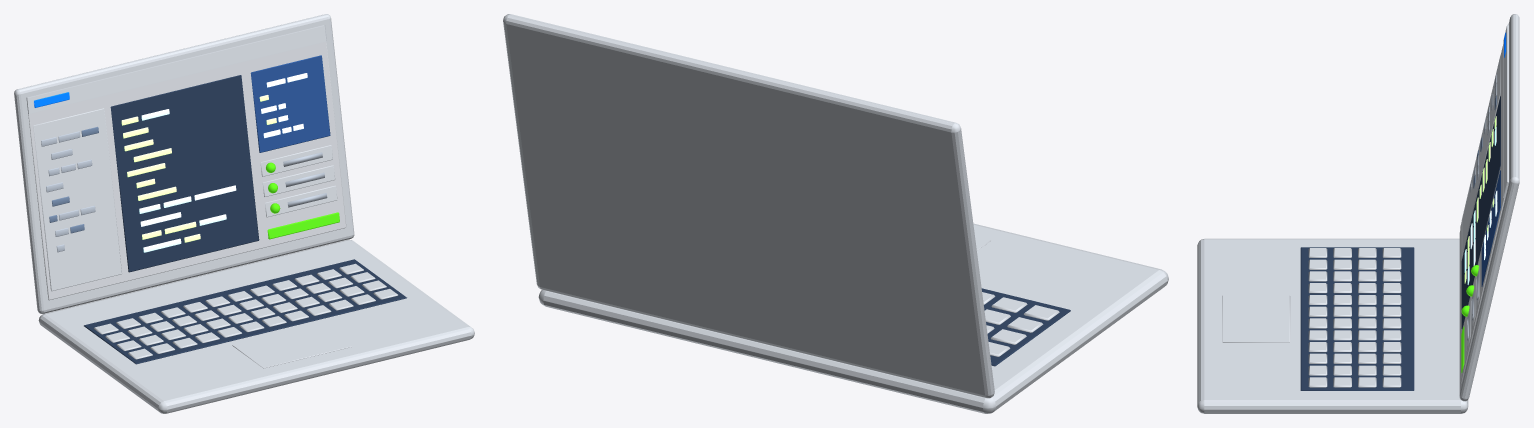
File: laptop-lab.glb
The picture shows the model from 3 angles, left to right: view 1: azimuth 30°, elevation 25°; view 2: azimuth 150°, elevation 25°; view 3: azimuth 270°, elevation 25°; orthographic projection. The views are drawn at different scales.
Visible parts, largest first — view 1: Screen, Base; view 2: Screen, Base; view 3: Base, Screen.
Boxes of the visible parts, bbox=[...] form: Screen: bbox=[14, 14, 354, 313]; Base: bbox=[38, 239, 474, 413]; Screen: bbox=[503, 14, 994, 398]; Base: bbox=[538, 223, 1168, 413]; Base: bbox=[1197, 238, 1468, 413]; Screen: bbox=[1459, 14, 1519, 401].
Bounding box in the file's own units: 3.2 × 2.13 × 2.62.
